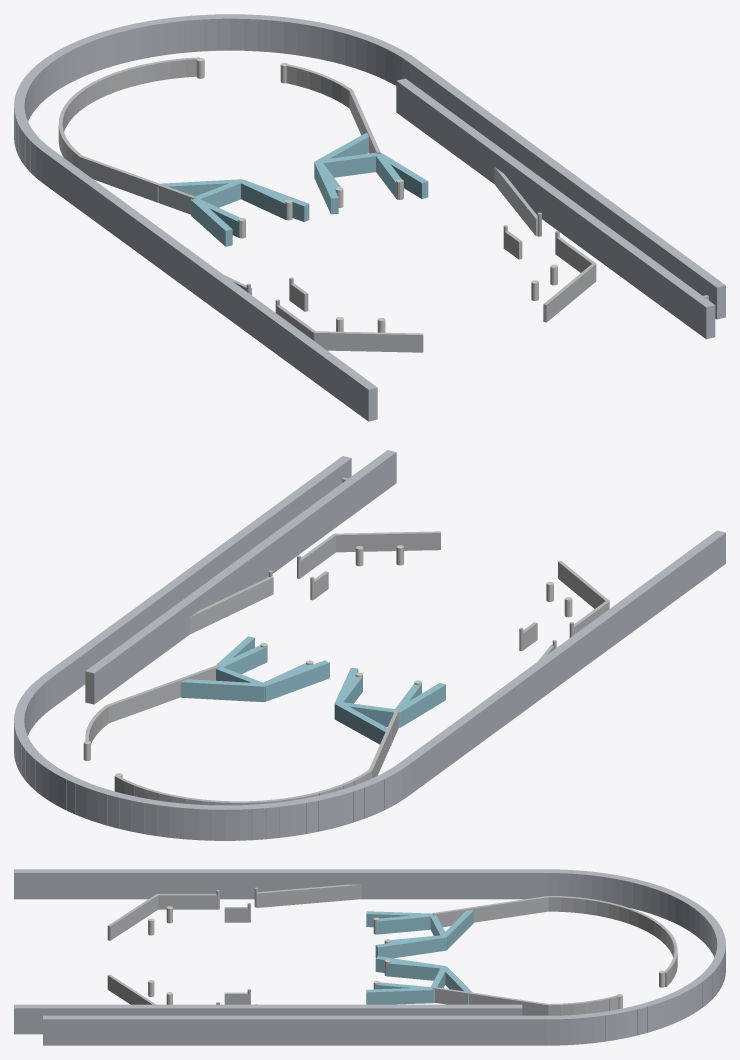
File: Space_Guides.glb
3 views of the same model, one above another, from view 1: azimuth 30°, elevation 25°; view 2: azimuth 150°, elevation 25°; view 3: azimuth 270°, elevation 25° (orthographic). The views are drawn at different scales.
Parts seen in each view (by area): view 1: Guides_Wood, Guides_Metal, Guides_Plastic, Posts_Rubber; view 2: Guides_Wood, Guides_Metal, Guides_Plastic, Posts_Rubber; view 3: Guides_Wood, Guides_Metal, Guides_Plastic, Posts_Rubber.
Part boxes in pixels (x1,y1,x2,y2): Guides_Wood: (14, 14, 725, 421); Guides_Metal: (58, 57, 708, 352); Guides_Plastic: (157, 132, 428, 246); Posts_Rubber: (196, 58, 557, 332); Guides_Wood: (14, 450, 725, 840); Guides_Metal: (85, 477, 609, 805); Guides_Plastic: (180, 636, 445, 745); Posts_Rubber: (83, 545, 572, 777); Guides_Wood: (14, 869, 725, 1045); Guides_Metal: (107, 884, 677, 1015); Guides_Plastic: (366, 909, 473, 1004); Posts_Rubber: (148, 906, 664, 1009).
Bounding box in the file's own units: 0.6888 × 0.056 × 1.38.
